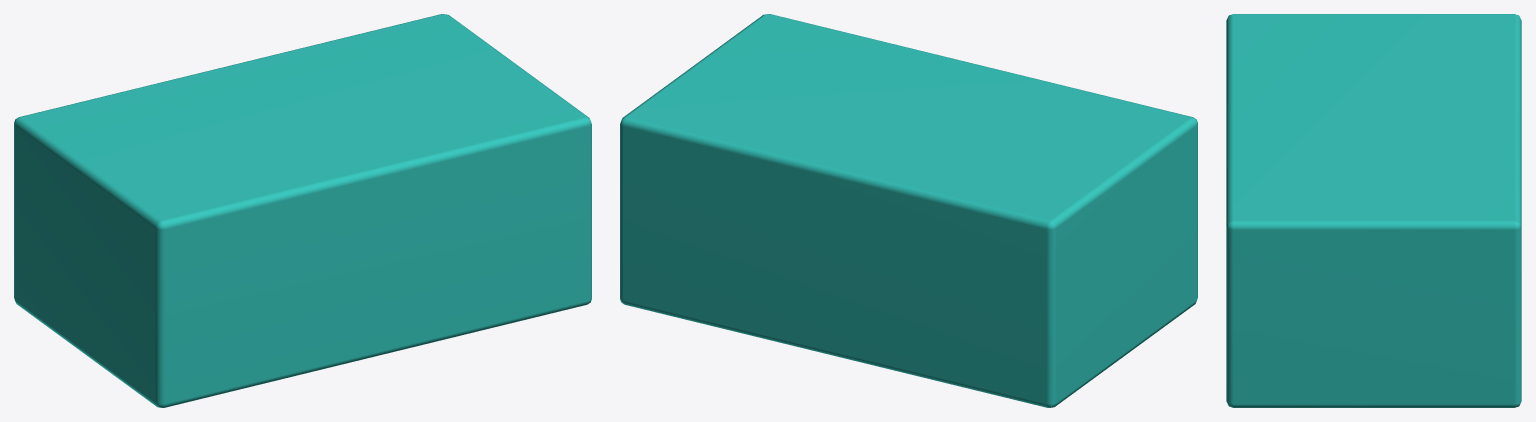
Rendered from cuboid-lite.glb.
3 renders of one model, left to right at view 1: azimuth 30°, elevation 25°; view 2: azimuth 150°, elevation 25°; view 3: azimuth 270°, elevation 25°, orthographic.
Visible parts, largest first — view 1: Rectangular cuboid; view 2: Rectangular cuboid; view 3: Rectangular cuboid.
Boxes of the visible parts, x1,y1,x2,y2 form: Rectangular cuboid: [14, 14, 591, 407]; Rectangular cuboid: [620, 14, 1197, 407]; Rectangular cuboid: [1226, 14, 1521, 407].
Bounding box in the file's own units: 1.7 × 0.7 × 1.
